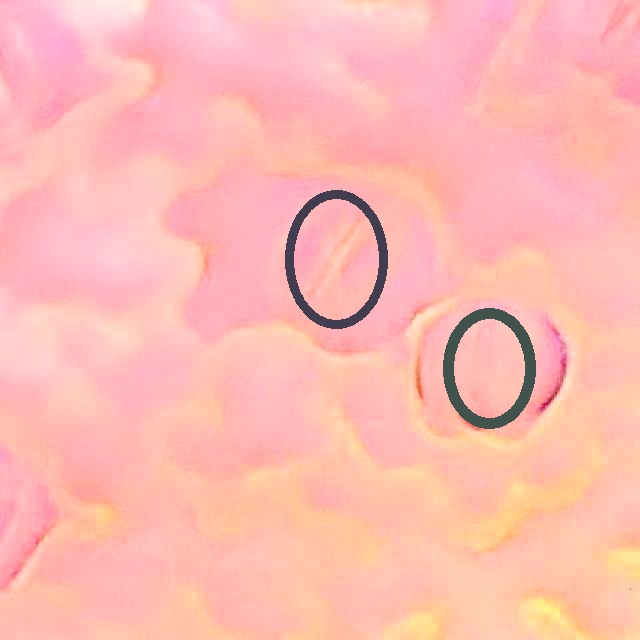close: (284, 190, 388, 328), (443, 308, 536, 428)
